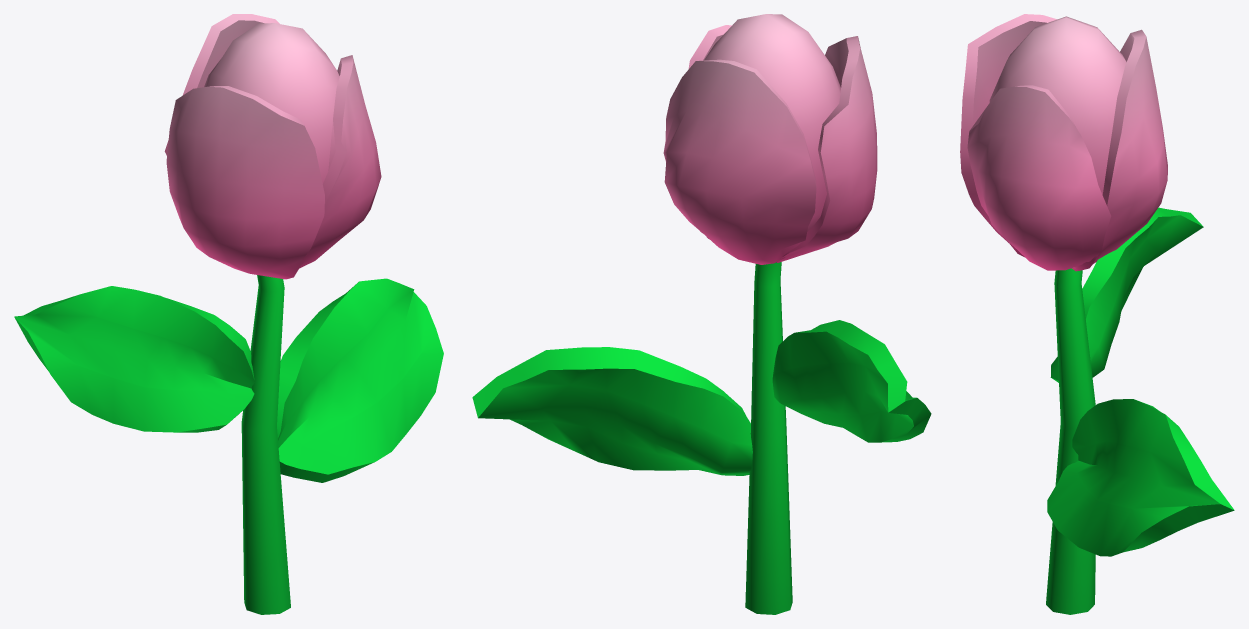
Rendered from Farm_Crop_Tulip_02.fbx.
3 views of the same model, side by side, from view 1: azimuth 30°, elevation 25°; view 2: azimuth 150°, elevation 25°; view 3: azimuth 270°, elevation 25° (orthographic).
Visible parts, largest first — view 1: Farm_Crop_Tulip_02; view 2: Farm_Crop_Tulip_02; view 3: Farm_Crop_Tulip_02.
Boxes of the visible parts, x1=… form: Farm_Crop_Tulip_02: x1=14, y1=14, x2=443, y2=614; Farm_Crop_Tulip_02: x1=472, y1=14, x2=931, y2=614; Farm_Crop_Tulip_02: x1=960, y1=14, x2=1234, y2=614.
Bounding box in the file's own units: 77.44 × 104 × 44.03.
